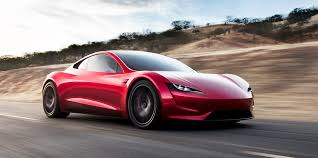car: (39, 50, 257, 134)
